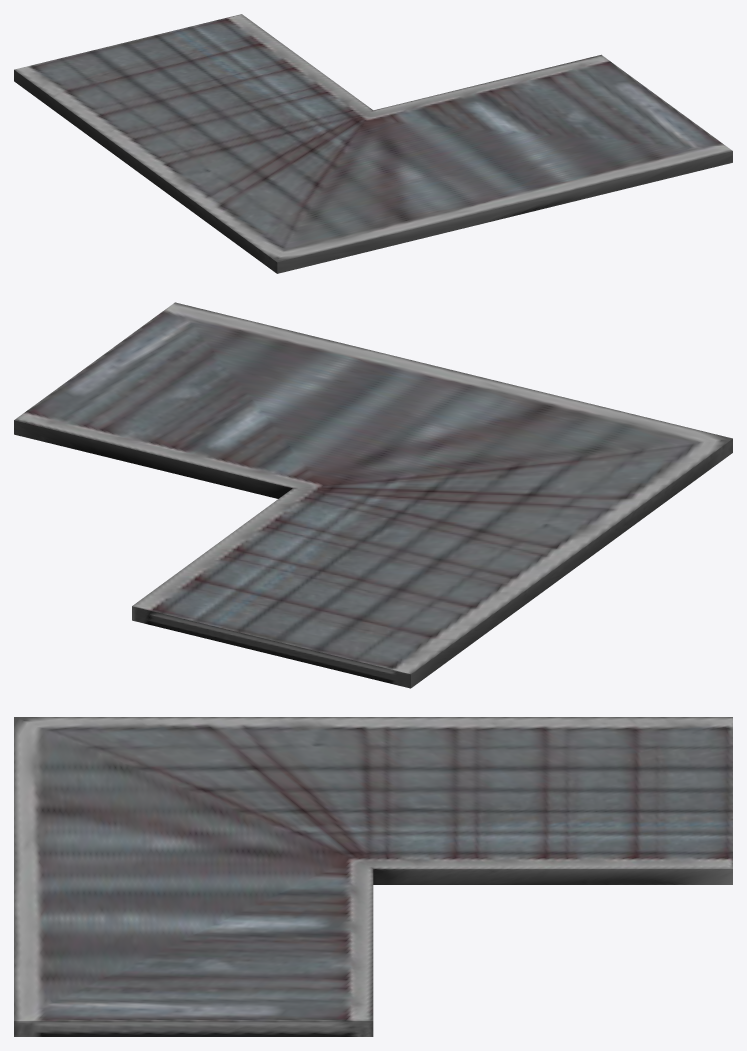
The model's file is eec82e6c-eb1e-4e37-b4c7-3843cb40d9e2.glb.
3 renders of one model, top to bottom at view 1: azimuth 30°, elevation 25°; view 2: azimuth 150°, elevation 25°; view 3: azimuth 270°, elevation 25°, orthographic. The views are drawn at different scales.
Parts seen in each view (by area): view 1: Balcony Cover Corner; view 2: Balcony Cover Corner; view 3: Balcony Cover Corner.
Boxes of the visible parts, x1,y1,x2,y2 form: Balcony Cover Corner: [14, 14, 732, 273]; Balcony Cover Corner: [14, 302, 732, 688]; Balcony Cover Corner: [14, 717, 732, 1036].
Size of what is drawn, in the model's own units: 4.5 by 0.1102 by 4.5.
1 material, 1 textured.
